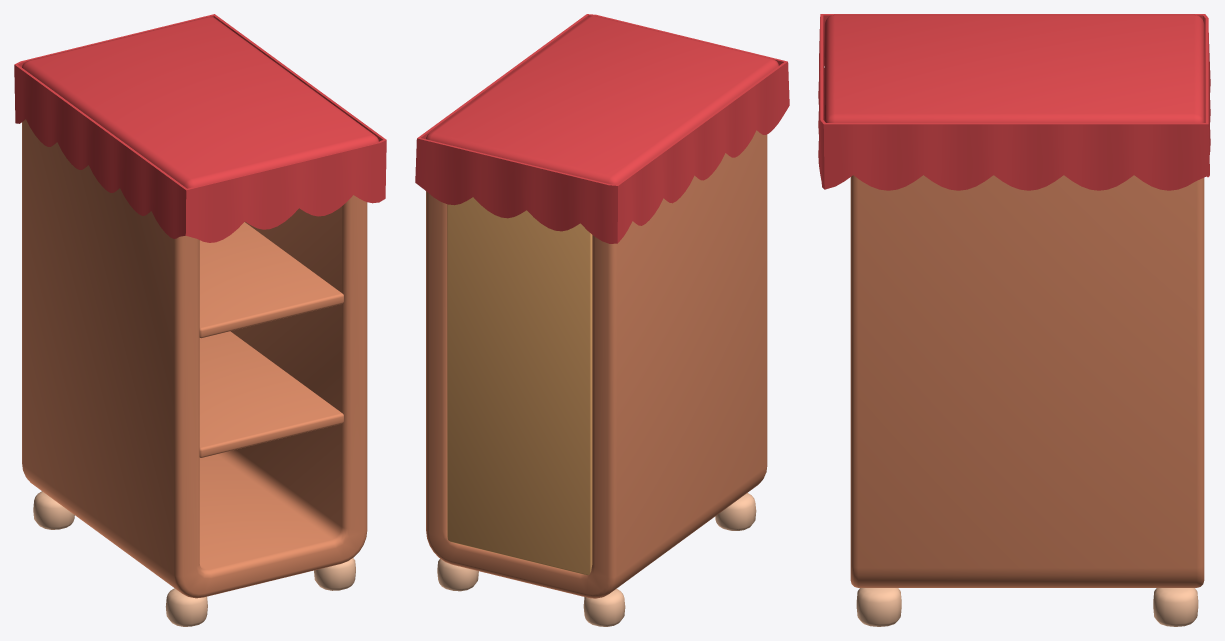
File: nicho_cozinha_campestre.glb
The picture shows the model from 3 angles, left to right: view 1: azimuth 30°, elevation 25°; view 2: azimuth 150°, elevation 25°; view 3: azimuth 270°, elevation 25°; orthographic projection. The views are drawn at different scales.
Parts seen in each view (by area): view 1: nicho_cozinha_campestre; view 2: nicho_cozinha_campestre; view 3: nicho_cozinha_campestre.
Boxes of the visible parts, x1,y1,x2,y2 form: nicho_cozinha_campestre: (14,14,386,626); nicho_cozinha_campestre: (415,14,789,626); nicho_cozinha_campestre: (818,14,1210,626).
Size of the model in its own units: 0.418 by 0.9 by 0.619.
Materials: 1 (1 with a texture image).
